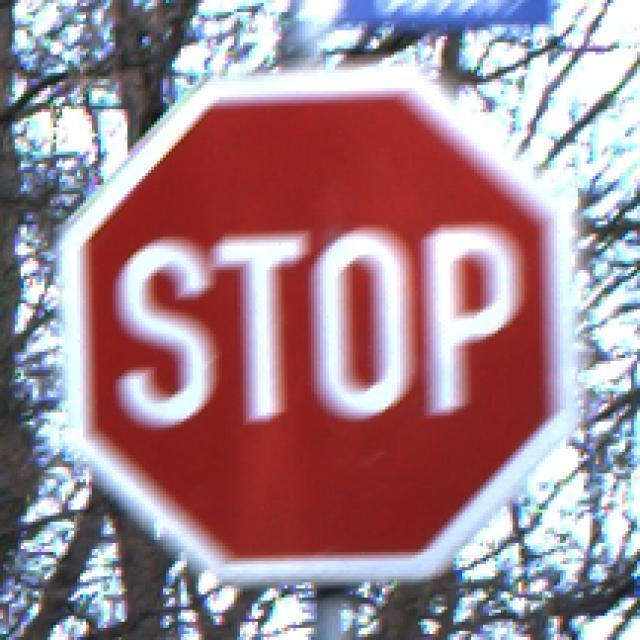stop: (48, 67, 587, 590)
